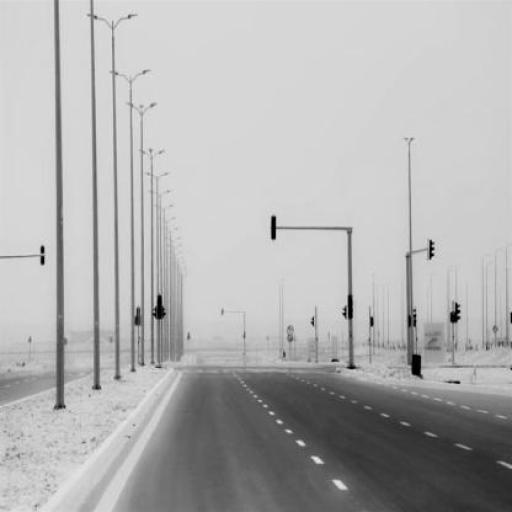street light: (88, 11, 138, 377), (110, 66, 150, 368), (126, 98, 156, 362), (140, 145, 166, 361), (145, 171, 169, 363)
